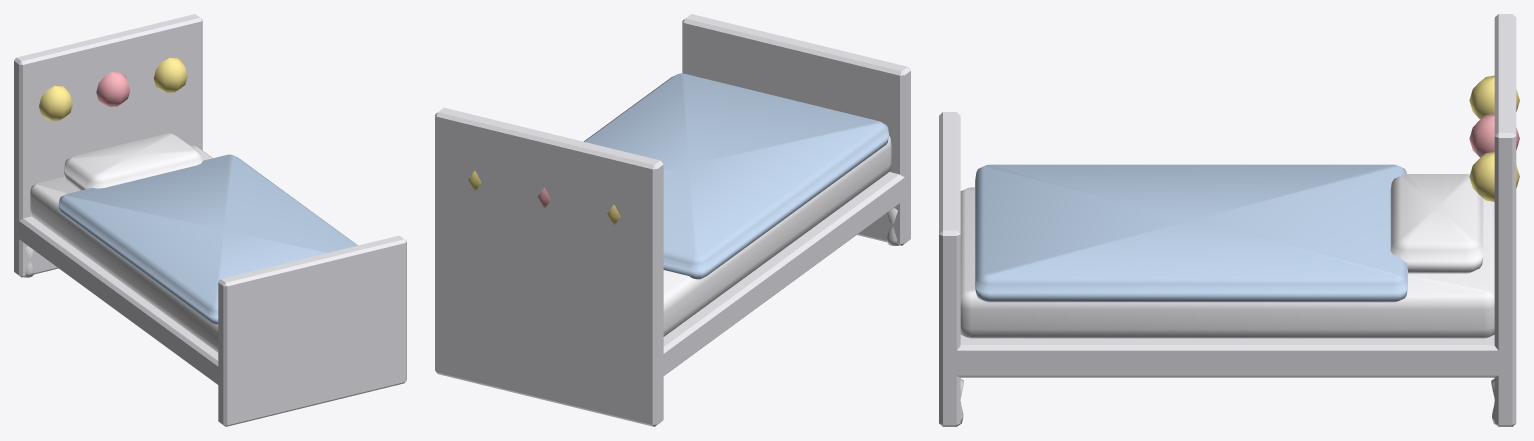
File: kids_bed.glb
3 views of the same model, side by side, from view 1: azimuth 30°, elevation 25°; view 2: azimuth 150°, elevation 25°; view 3: azimuth 270°, elevation 25° (orthographic). The views are drawn at different scales.
Parts seen in each view (by area): view 1: kids_bed; view 2: kids_bed; view 3: kids_bed.
Part boxes in pixels (box(x1,y1,x2,y2)): kids_bed: box(14, 14, 406, 426); kids_bed: box(435, 14, 910, 426); kids_bed: box(939, 14, 1519, 426).
Size of the model in its own units: 0.8 by 0.9 by 1.61.
